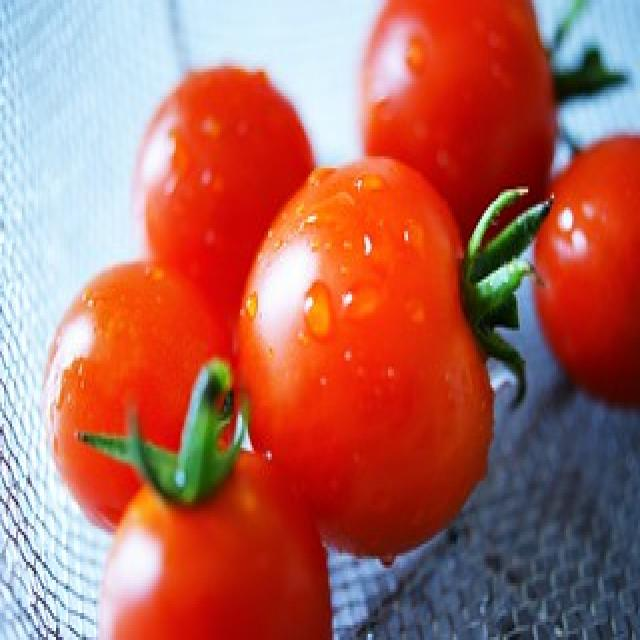Tomato: (228, 149, 556, 560), (68, 356, 334, 640)
